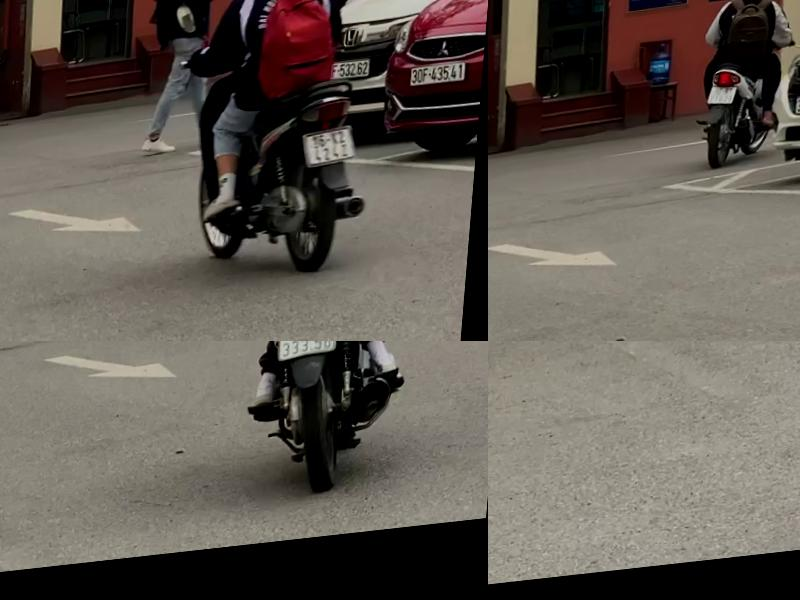license_plate: (300, 137, 365, 187), (283, 341, 344, 373), (712, 95, 743, 119)
motorcyclist: (175, 0, 392, 298), (201, 341, 433, 516), (701, 0, 800, 183)
